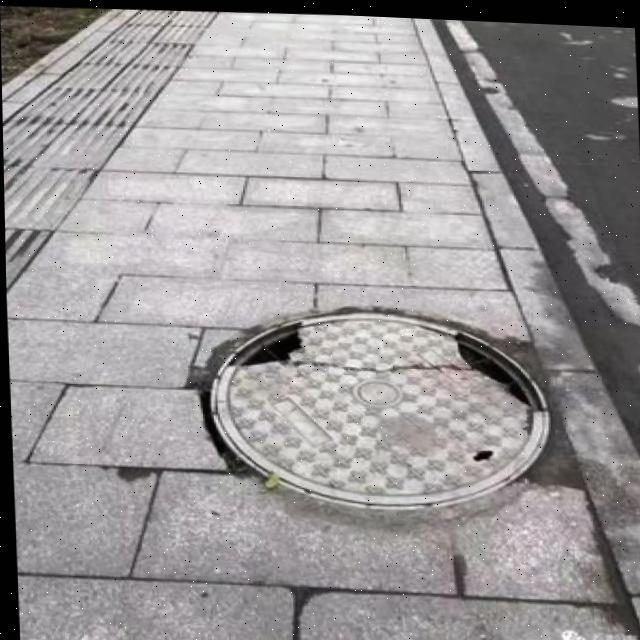manhole: (168, 282, 560, 524)
